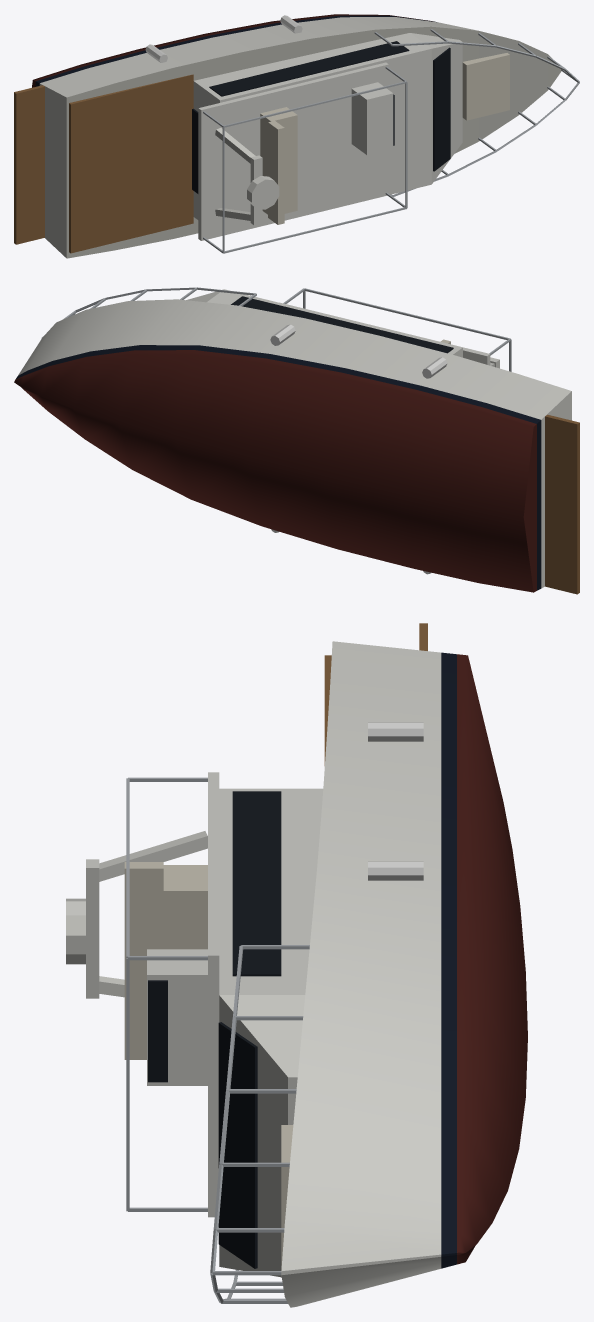
Rendered from boat-motor.glb.
3 views of the same model, one above another, from view 1: azimuth 30°, elevation 25°; view 2: azimuth 150°, elevation 25°; view 3: azimuth 270°, elevation 25° (orthographic). The views are drawn at different scales.
Parts seen in each view (by area): view 1: boat-motor; view 2: boat-motor; view 3: boat-motor.
Boxes of the visible parts, bbox=[...] form: boat-motor: bbox=[14, 14, 579, 258]; boat-motor: bbox=[14, 287, 579, 594]; boat-motor: bbox=[66, 623, 527, 1307].
Size of the model in its own units: 10.65 by 3.63 by 4.16.
